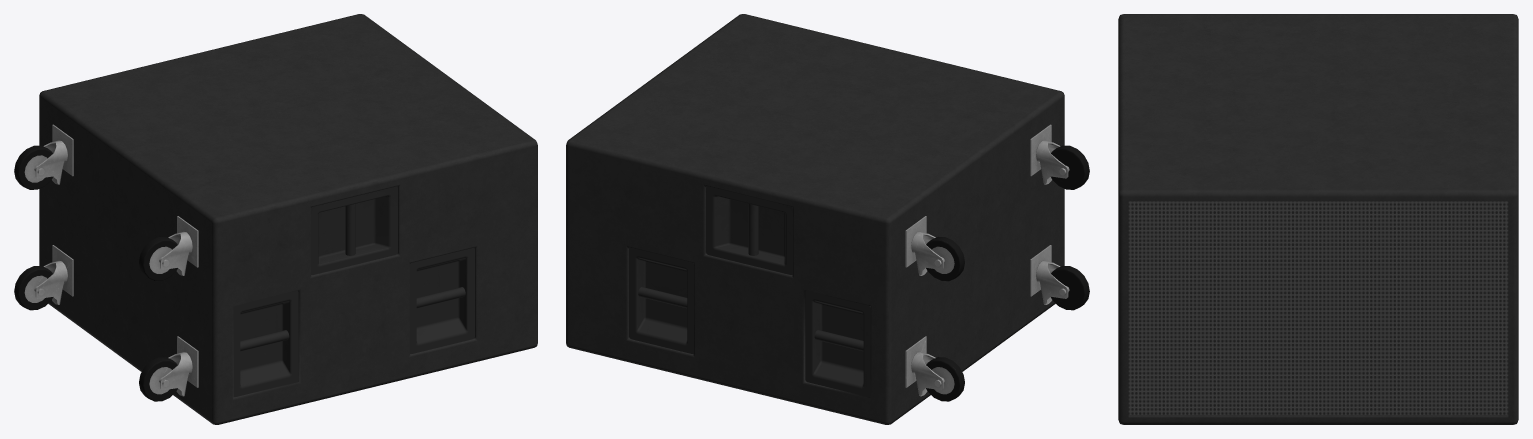
The model's file is SM_Speaker_03.fbx.
The picture shows the model from 3 angles, left to right: view 1: azimuth 30°, elevation 25°; view 2: azimuth 150°, elevation 25°; view 3: azimuth 270°, elevation 25°; orthographic projection. The views are drawn at different scales.
Parts seen in each view (by area): view 1: SM_Speaker_03_LOD0; view 2: SM_Speaker_03_LOD0; view 3: SM_Speaker_03_LOD0.
Boxes of the visible parts, x1,y1,x2,y2 form: SM_Speaker_03_LOD0: (14, 14, 537, 424); SM_Speaker_03_LOD0: (566, 14, 1089, 424); SM_Speaker_03_LOD0: (1118, 14, 1518, 424).
Bounding box in the file's own units: 85.21 × 70 × 45.33.
1 material, 1 textured.
